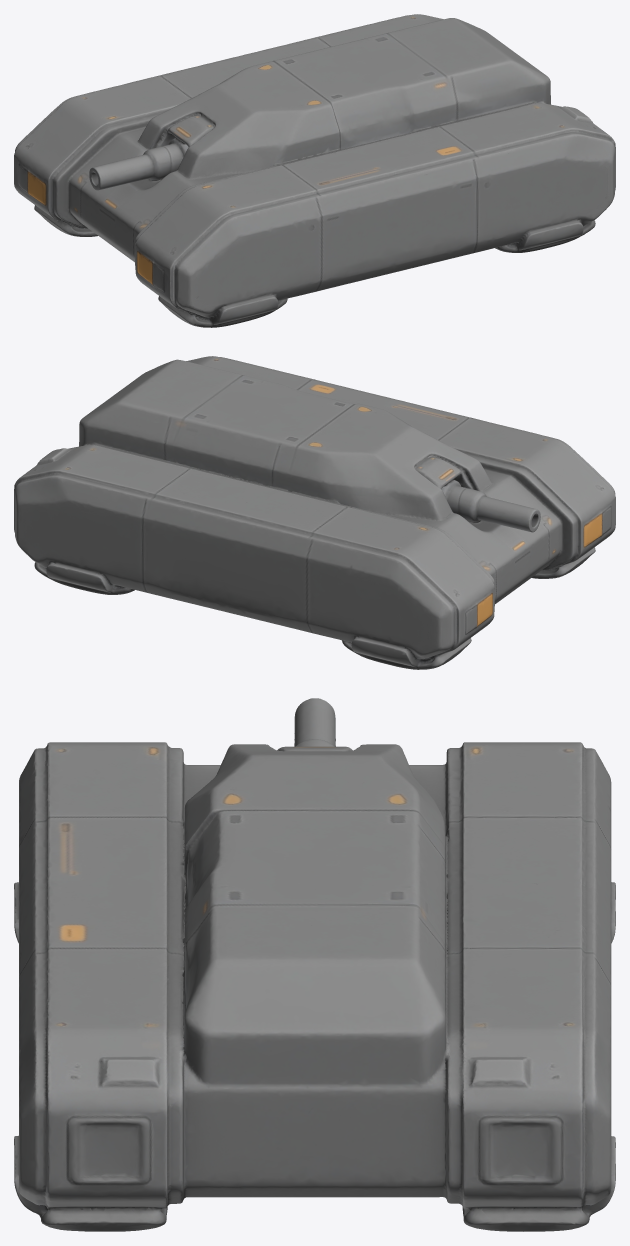
File: Meshy_AI_Grey_Sentinel_Tank_1027175152_texture.glb
3 renders of one model, top to bottom at view 1: azimuth 30°, elevation 25°; view 2: azimuth 150°, elevation 25°; view 3: azimuth 270°, elevation 25°, orthographic. The views are drawn at different scales.
Size of the model in its own units: 1.9 by 0.6125 by 1.29.
1 material, 1 textured.
